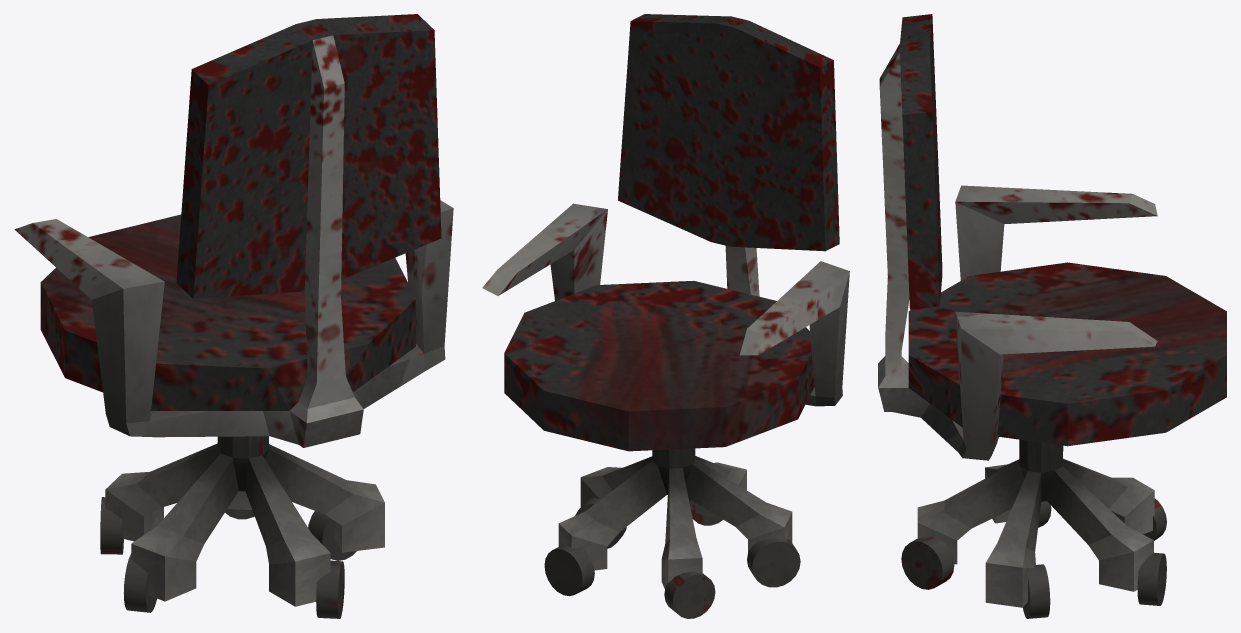
Rendered from Digdig stol.fbx.
The picture shows the model from 3 angles, left to right: view 1: azimuth 30°, elevation 25°; view 2: azimuth 150°, elevation 25°; view 3: azimuth 270°, elevation 25°; orthographic projection. The views are drawn at different scales.
Parts seen in each view (by area): view 1: pCylinder8; view 2: pCylinder8; view 3: pCylinder8.
Part boxes in pixels (x1,y1,x2,y2): pCylinder8: (14, 14, 453, 618); pCylinder8: (482, 14, 849, 618); pCylinder8: (878, 14, 1226, 618).
Bounding box in the file's own units: 2.21 × 3.62 × 2.15.
